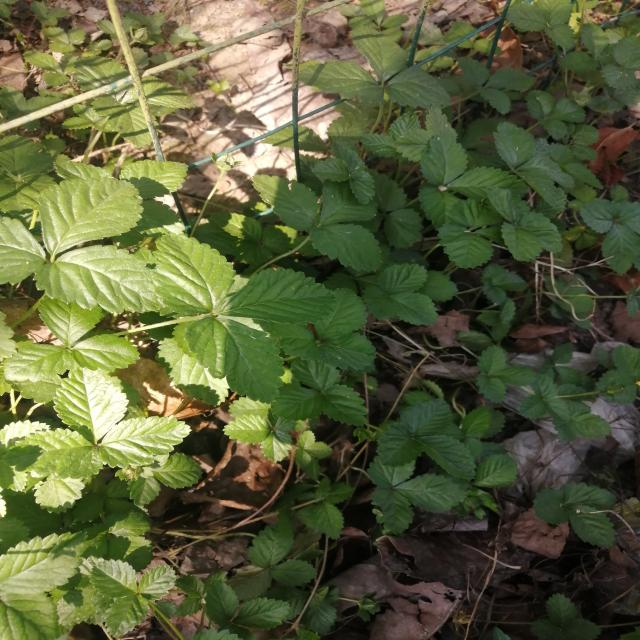Mock_strawberry: (0, 185, 323, 388)
